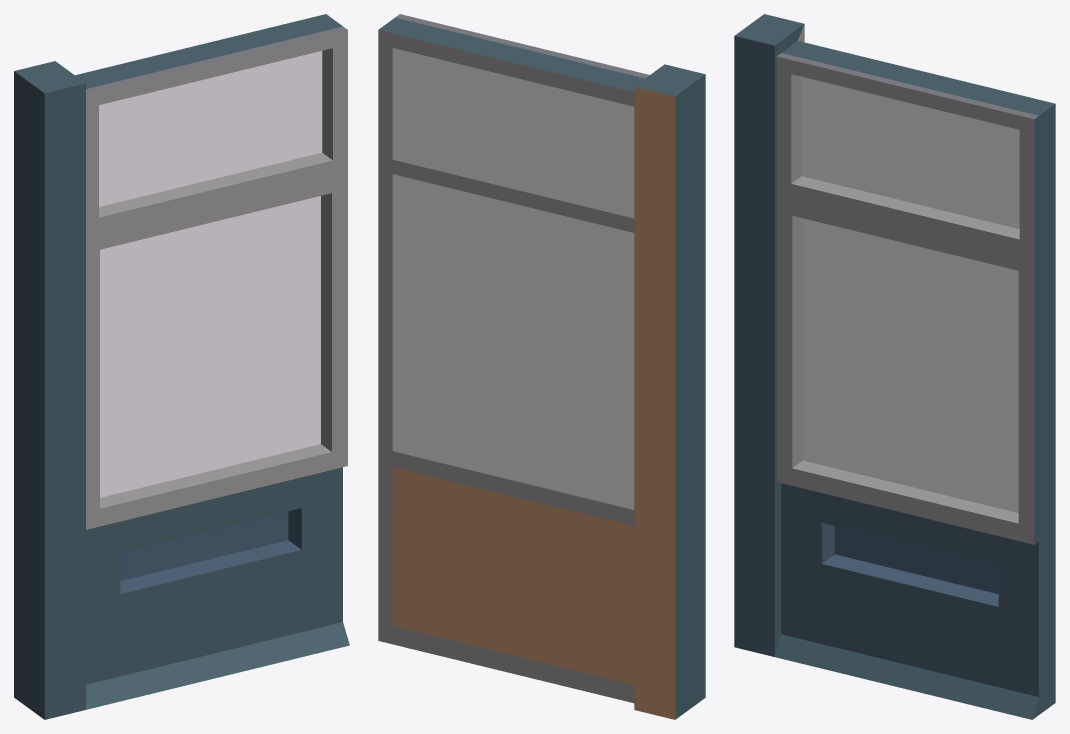
File: KA_mur_gauche_devanture.fbx
The picture shows the model from 3 angles, left to right: view 1: azimuth 30°, elevation 25°; view 2: azimuth 150°, elevation 25°; view 3: azimuth 330°, elevation 25°; orthographic projection. The views are drawn at different scales.
Visible parts, largest first — view 1: Object002; view 2: Object002; view 3: Object002.
Part boxes in pixels (x1,y1,x2,y2): Object002: (14, 14, 349, 719); Object002: (378, 14, 705, 719); Object002: (734, 14, 1055, 719).
Bounding box in the file's own units: 81.92 × 161 × 14.24.
